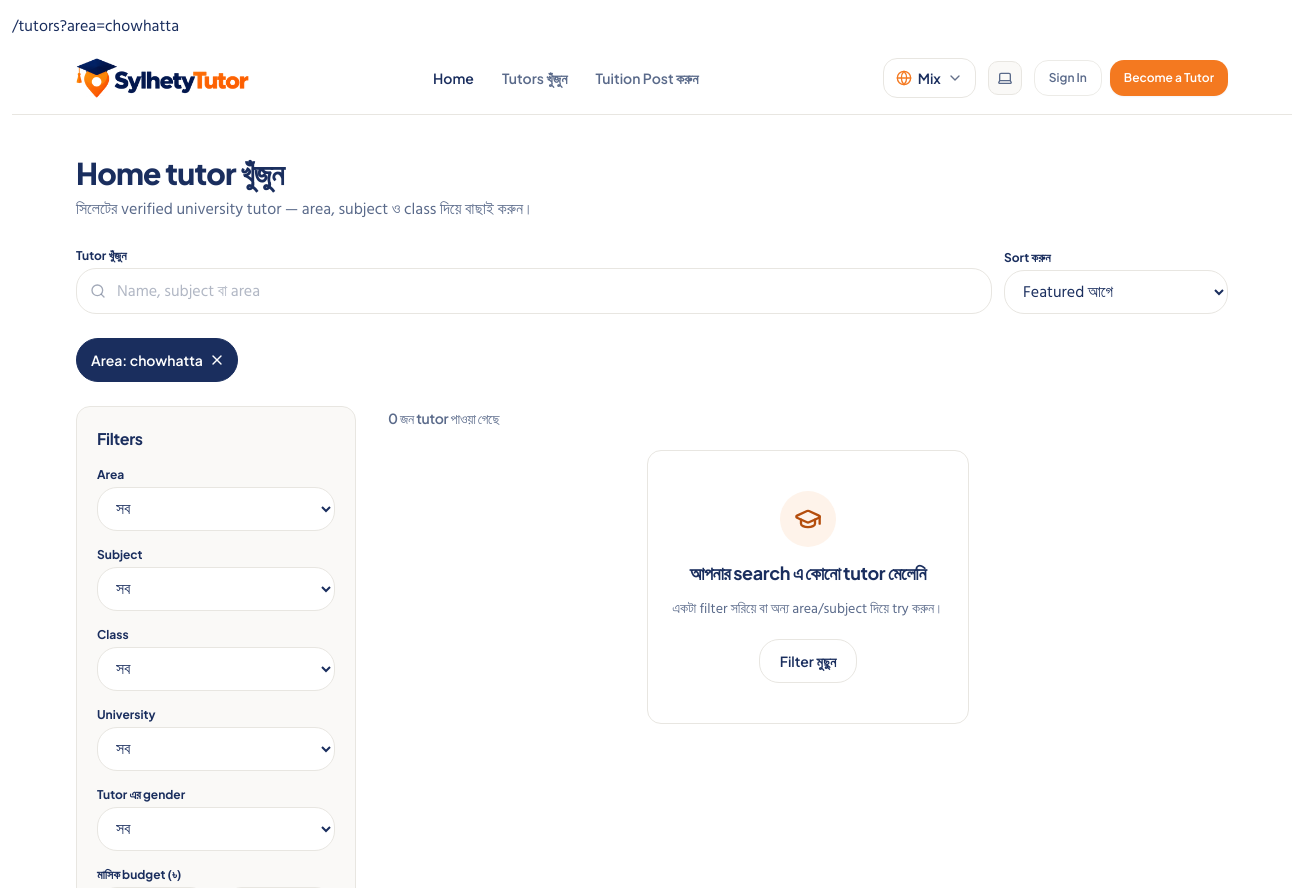
Scenario: Search page › explains an empty result for filters and offers a way out
Check: the heading "আপনার search এ কোনো tutor মেলেনি" is shown, box [690,559,926,587]
Check: the text "একটা filter সরিয়ে বা অন্য area/subject দিয়ে try করুন।" is shown, box [672,599,944,619]
Click the button "Filter মুছুন": x=808, y=661 [759,639,857,683]
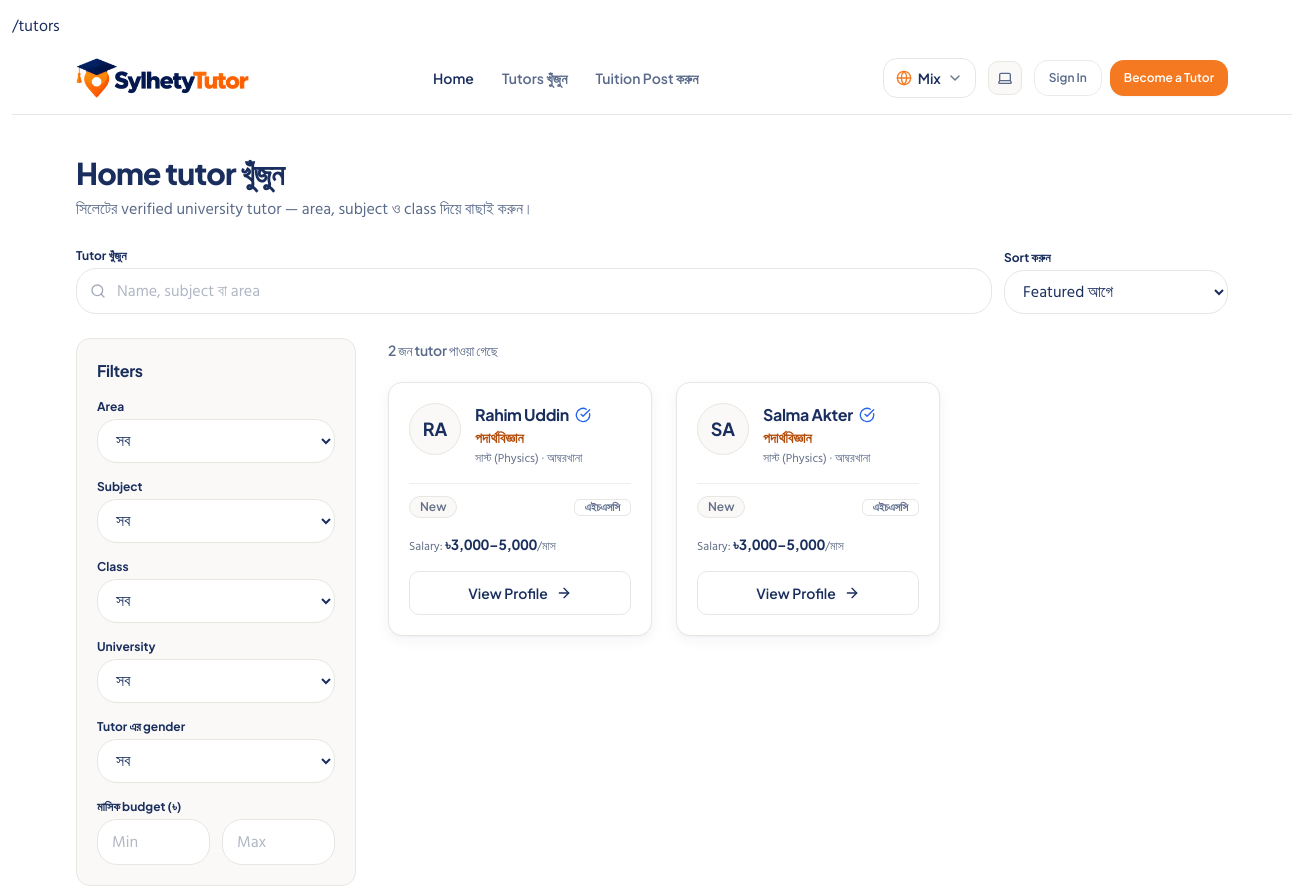
Check: the text with test id "url" reads "/tutors", box [12,13,60,39]
Check: the heading "Rahim Uddin" is shown, box [475,403,569,427]
